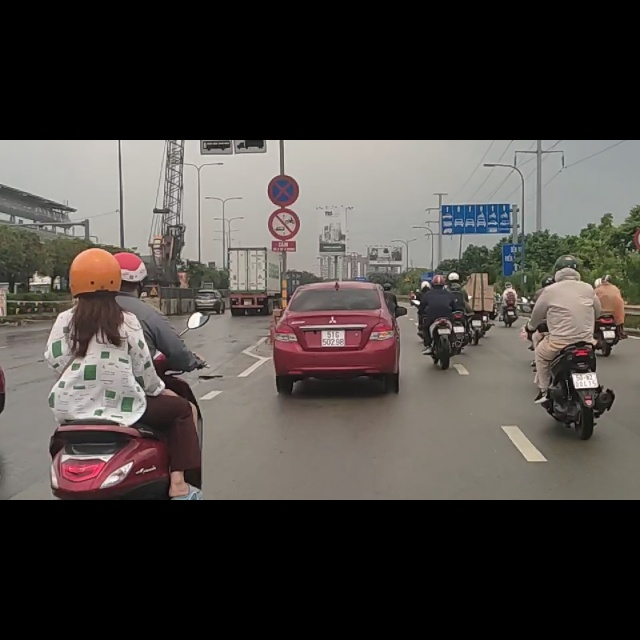bien_cam: (268, 62, 299, 117), (269, 121, 300, 175)
